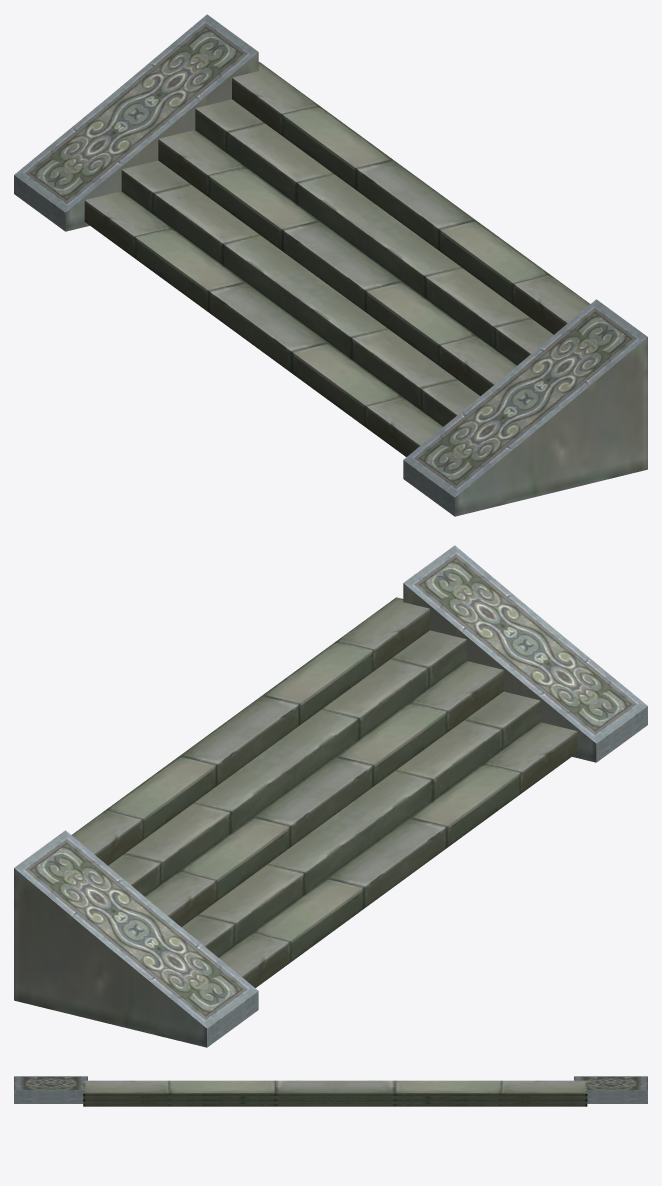
File: szc_building_dimian_quyu1_03.FBX
3 renders of one model, top to bottom at view 1: azimuth 30°, elevation 25°; view 2: azimuth 150°, elevation 25°; view 3: azimuth 270°, elevation 25°, orthographic. The views are drawn at different scales.
Visible parts, largest first — view 1: szc_building_dimian_quyu1_03; view 2: szc_building_dimian_quyu1_03; view 3: szc_building_dimian_quyu1_03.
Boxes of the visible parts, x1=… form: szc_building_dimian_quyu1_03: x1=14, y1=14, x2=647, y2=516; szc_building_dimian_quyu1_03: x1=14, y1=545, x2=647, y2=1047; szc_building_dimian_quyu1_03: x1=14, y1=1076, x2=647, y2=1106.
Size of the model in its own units: 94.92 by 59.18 by 356.
